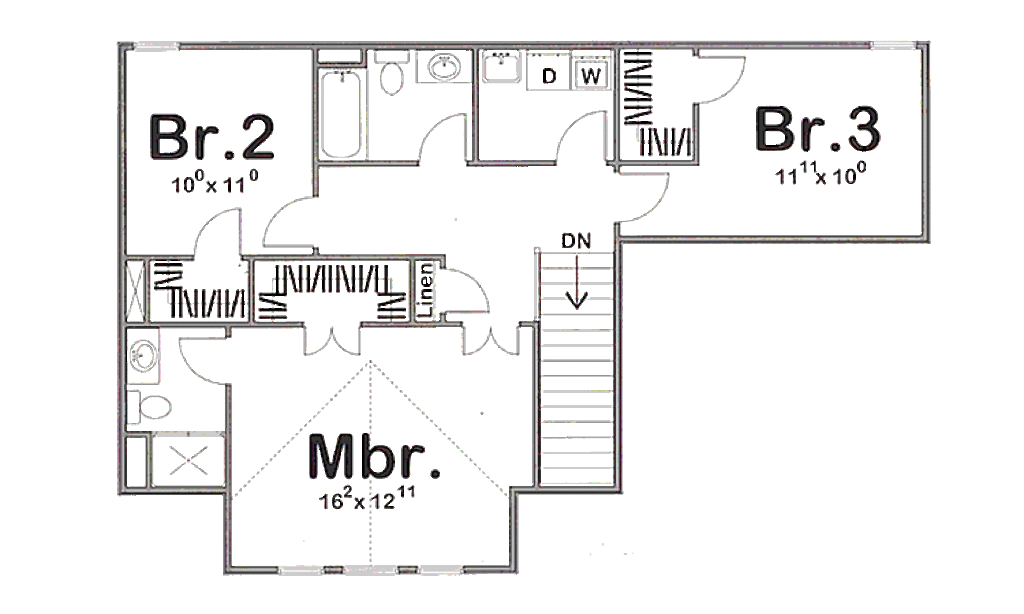door: (547, 108, 613, 171), (260, 193, 324, 249), (192, 201, 249, 261), (617, 165, 671, 228), (175, 331, 235, 387), (689, 51, 747, 107), (411, 112, 470, 166), (441, 264, 491, 316), (301, 323, 362, 359), (461, 324, 520, 359)
large_sink: (119, 384, 183, 434), (369, 45, 411, 99)
small_sink: (416, 48, 476, 90), (124, 324, 163, 386)
stairs: (535, 243, 624, 497)
tub: (314, 64, 371, 162)
window: (127, 39, 183, 58), (345, 562, 401, 578), (419, 558, 463, 576), (278, 563, 328, 577)
